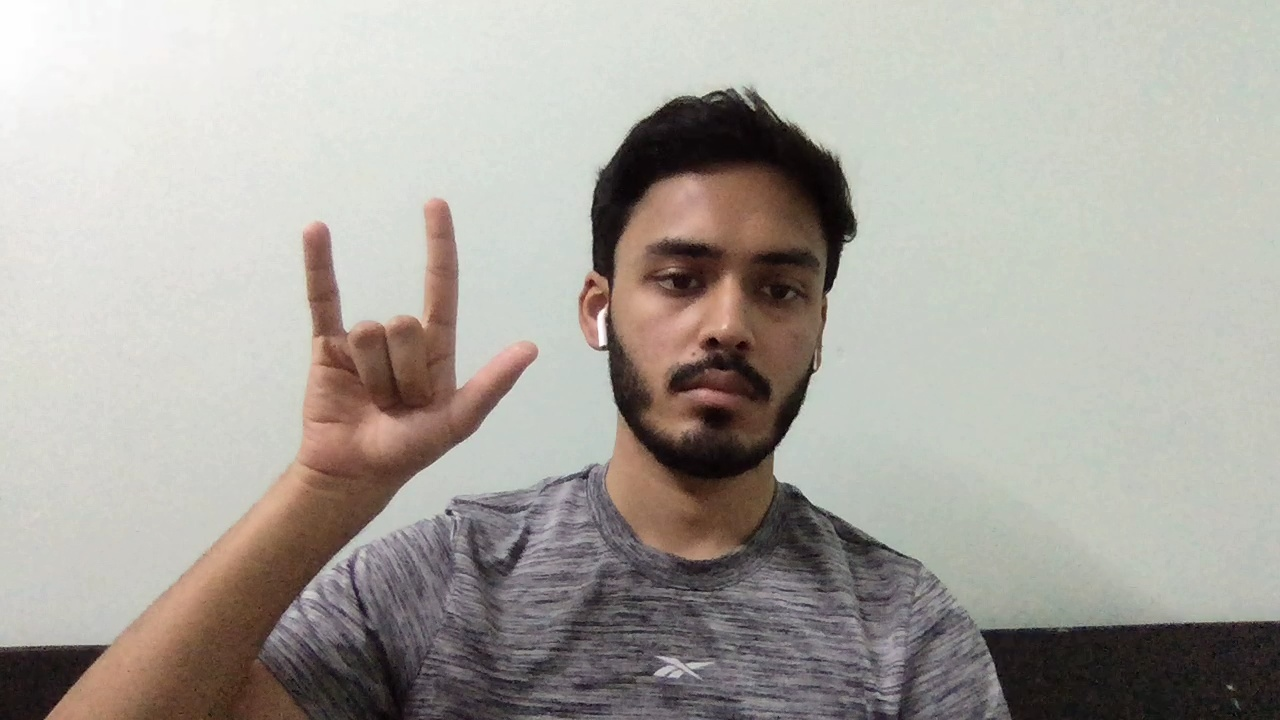I Love You: (282, 190, 545, 503)
